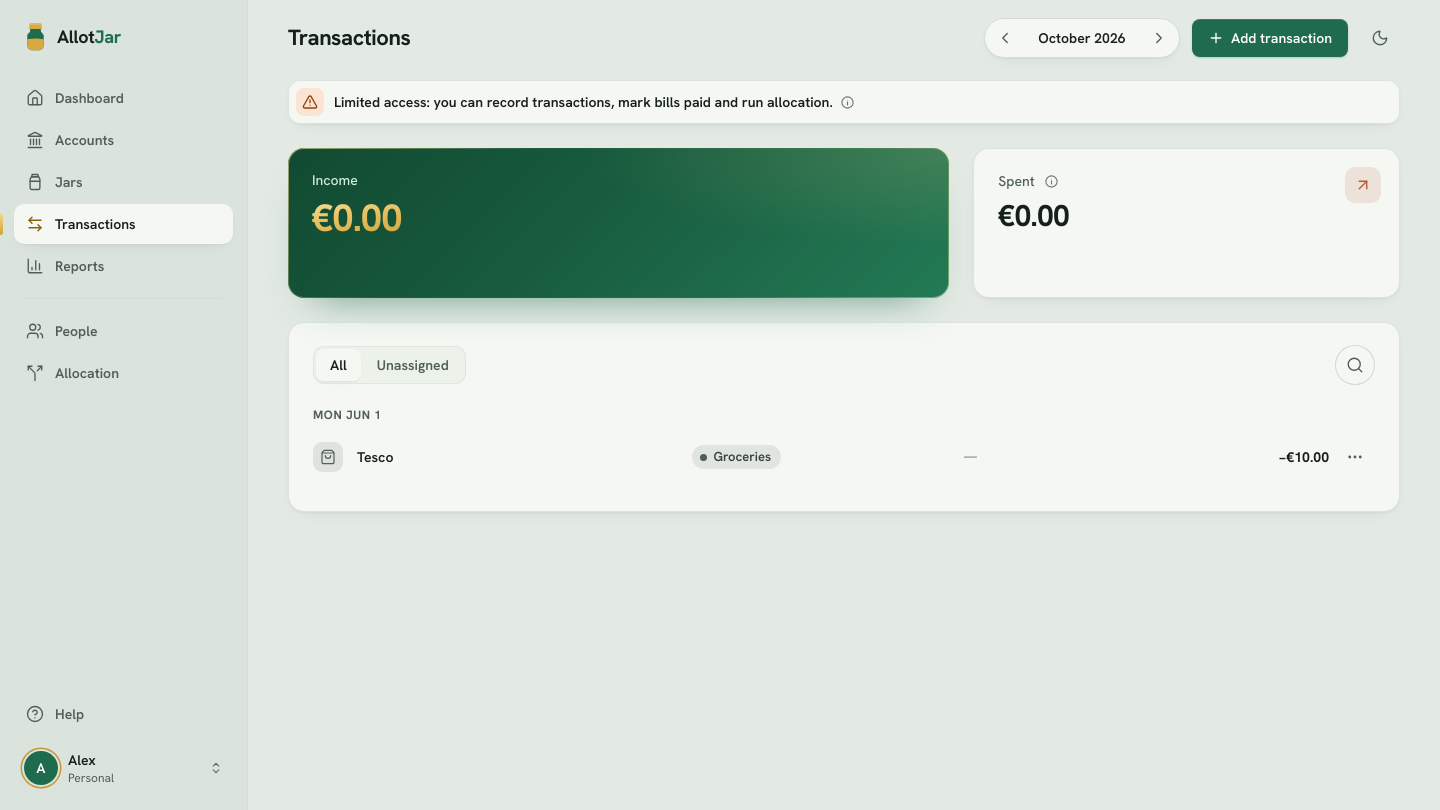
Test: role gating › limited access keeps transaction entry available
The image size is (1440, 810).
Check: the button "Add transaction" is shown, box [1192, 19, 1348, 57]
# The row's ⋯ offers the edit.
Click the button named "Tesco: more actions" at [1355, 457], box [1335, 437, 1375, 477]
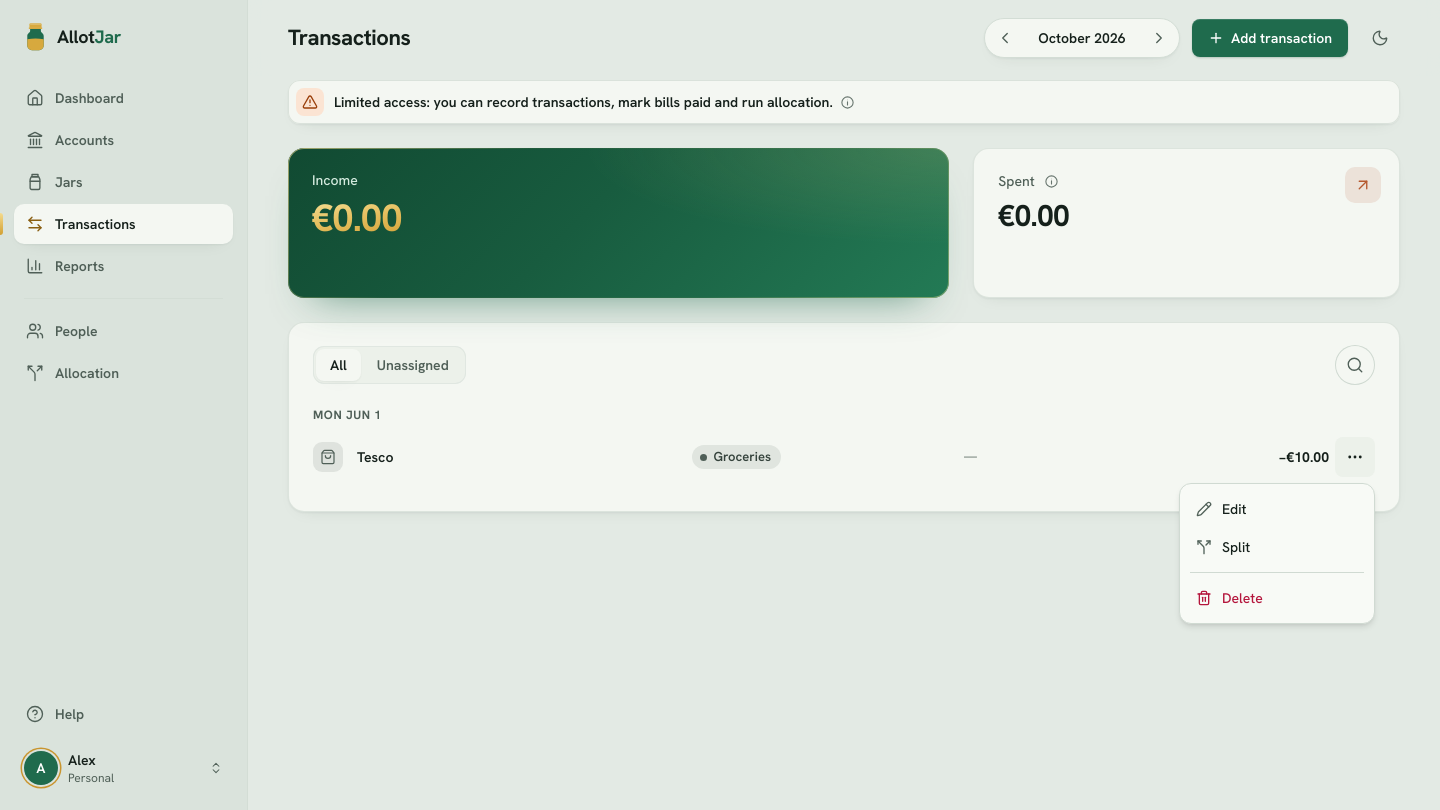
Check: the menu item with aria-label "Edit transaction: Tesco" is shown, box [1196, 500, 1246, 518]
